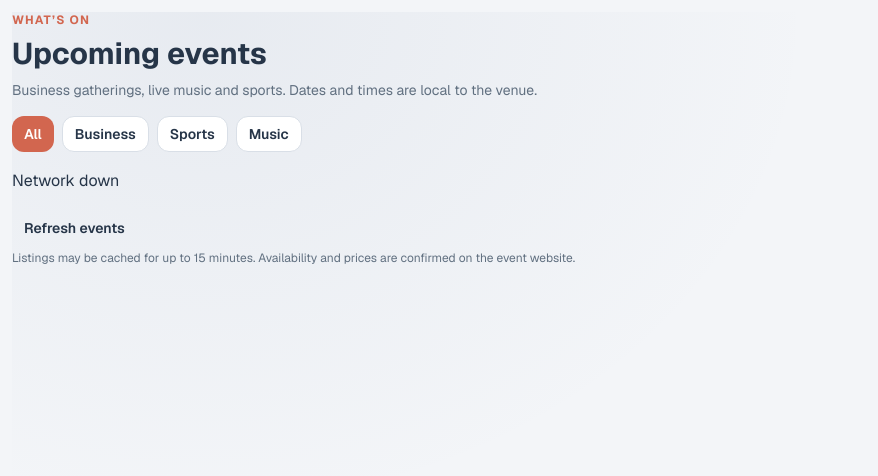
it: UpcomingEvents › shows a retryable error when loading fails
Check: the message reads "Network down", box [12,170,119,191]
Step 1. Click the button "Refresh events" → (74, 228), box [12,210,137,246]
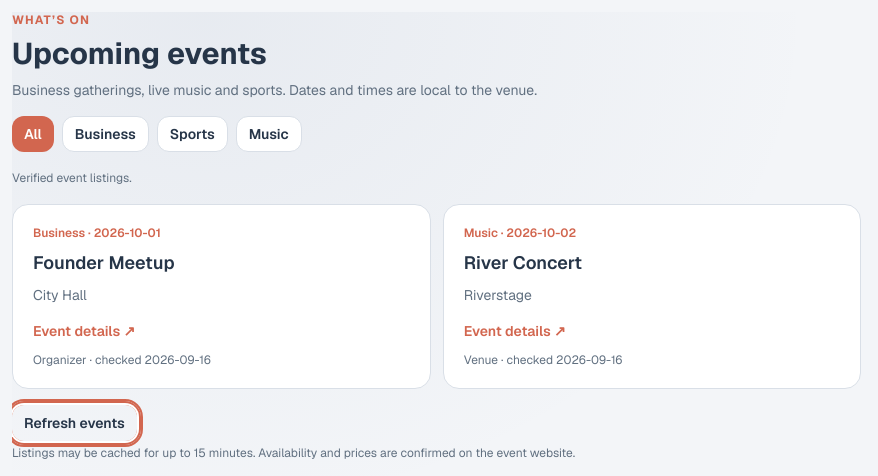
Check: the heading "Founder Meetup" is shown, box [33,251,175,274]
